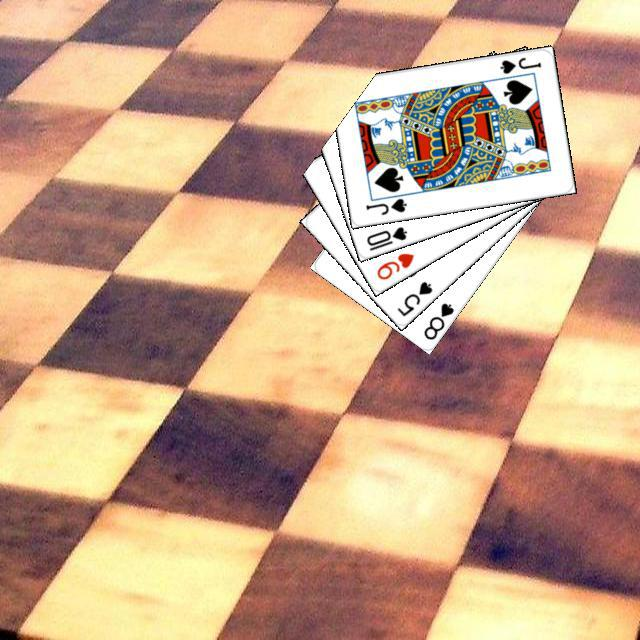10s: (361, 222, 408, 253)
5s: (392, 276, 434, 318)
8s: (418, 298, 456, 342)
9h: (372, 248, 416, 282)
Js: (495, 52, 543, 75), (361, 193, 408, 216)
